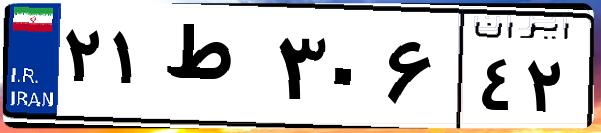0: (330, 28, 385, 110)
1: (110, 28, 158, 98)
2: (57, 26, 110, 100), (525, 38, 570, 115)
3: (270, 28, 330, 110)
4: (475, 38, 525, 113)
6: (385, 28, 445, 110)
ط: (158, 20, 270, 120)
